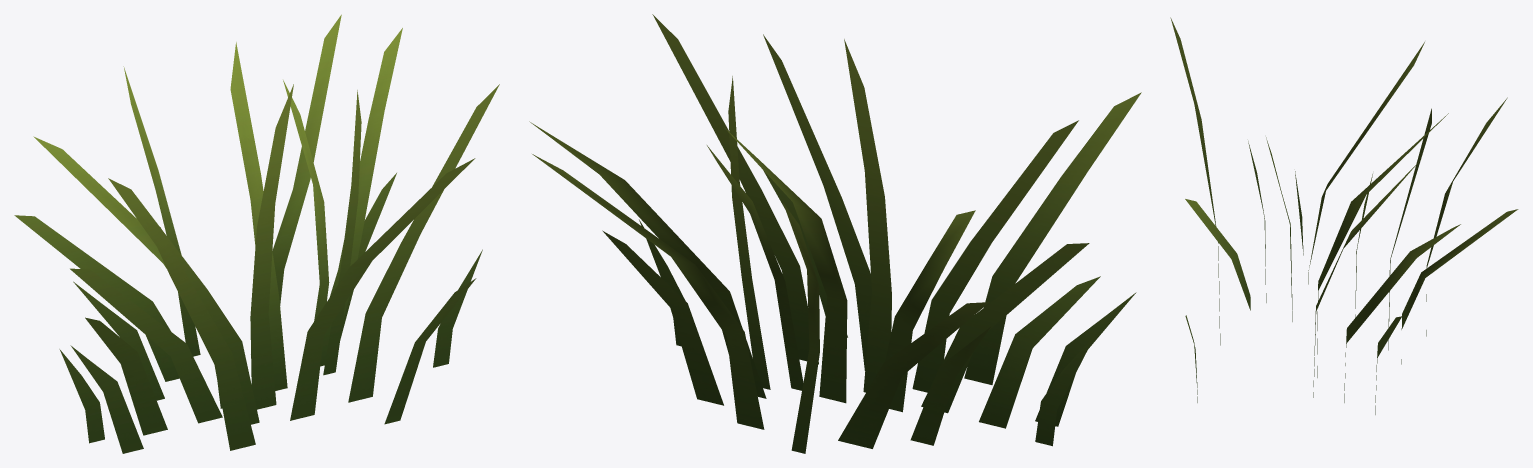
Rendered from Grass_Large.glb.
3 views of the same model, side by side, from view 1: azimuth 30°, elevation 25°; view 2: azimuth 150°, elevation 25°; view 3: azimuth 270°, elevation 25° (orthographic). The views are drawn at different scales.
Visible parts, largest first — view 1: Grass_Large; view 2: Grass_Large; view 3: Grass_Large.
Part boxes in pixels (box(x1,y1,x2,y2)): Grass_Large: box(14, 14, 499, 453); Grass_Large: box(529, 14, 1141, 453); Grass_Large: box(1170, 17, 1518, 414).
Size of the model in its own units: 0.7085 by 0.4851 by 0.498.
1 material, 1 textured.
